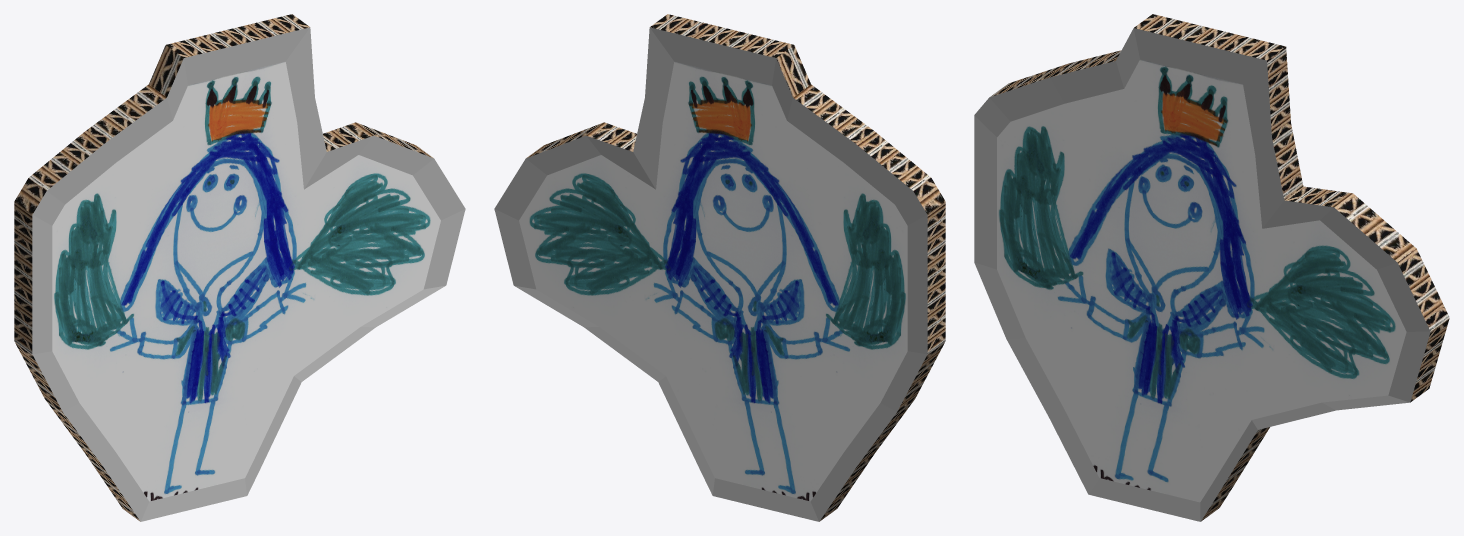
Rendered from PrinsessaVesiTytto.fbx.
3 renders of one model, left to right at view 1: azimuth 30°, elevation 25°; view 2: azimuth 150°, elevation 25°; view 3: azimuth 330°, elevation 25°, orthographic. The views are drawn at different scales.
Parts seen in each view (by area): view 1: PrinsessaVesiTytto; view 2: PrinsessaVesiTytto; view 3: PrinsessaVesiTytto.
Boxes of the visible parts, bbox=[...] form: PrinsessaVesiTytto: bbox=[14, 14, 465, 521]; PrinsessaVesiTytto: bbox=[494, 14, 945, 521]; PrinsessaVesiTytto: bbox=[974, 14, 1449, 521].
Bounding box in the file's own units: 223 × 223 × 16.16.
